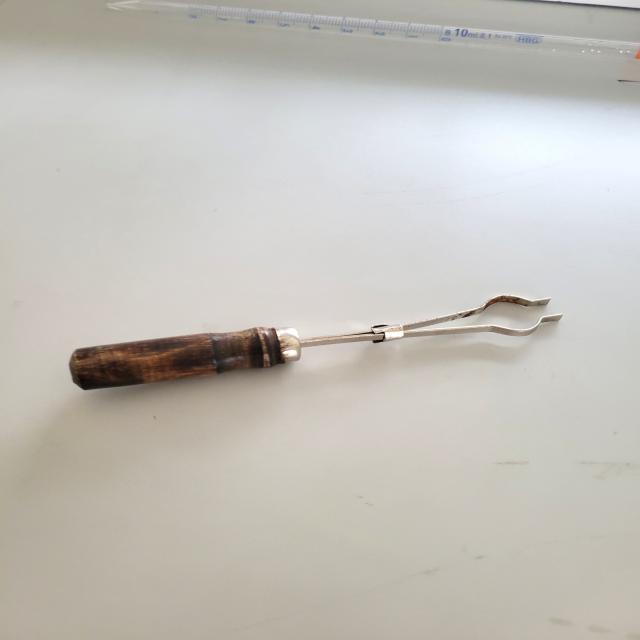TestTube_Holder: (42, 289, 569, 427)
